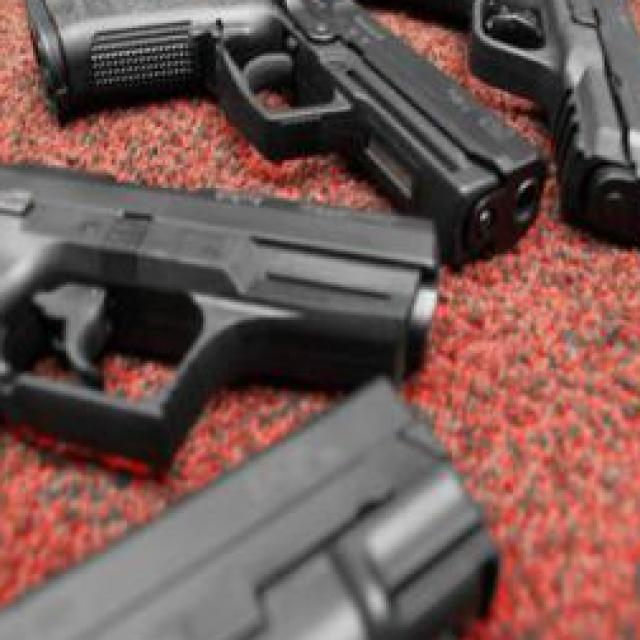pistol: (0, 131, 445, 505), (20, 0, 554, 267), (0, 368, 506, 639), (343, 0, 640, 254)
